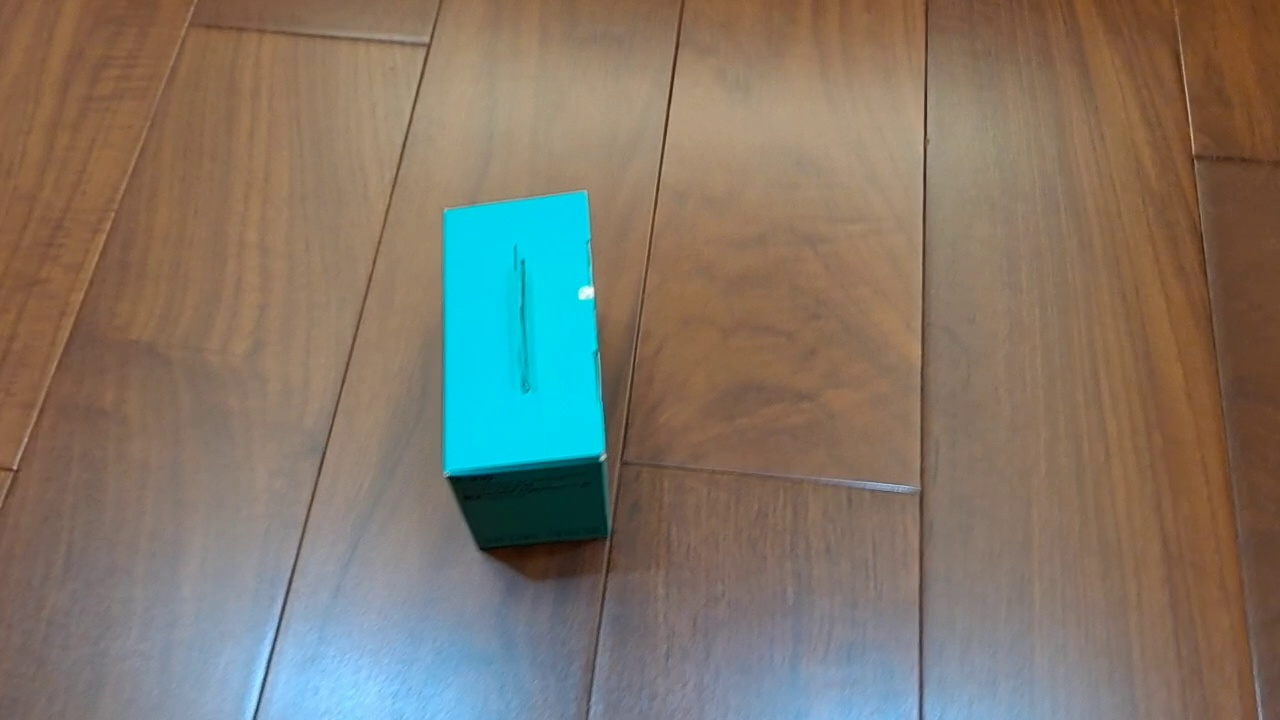webcam: (441, 188, 612, 552)
